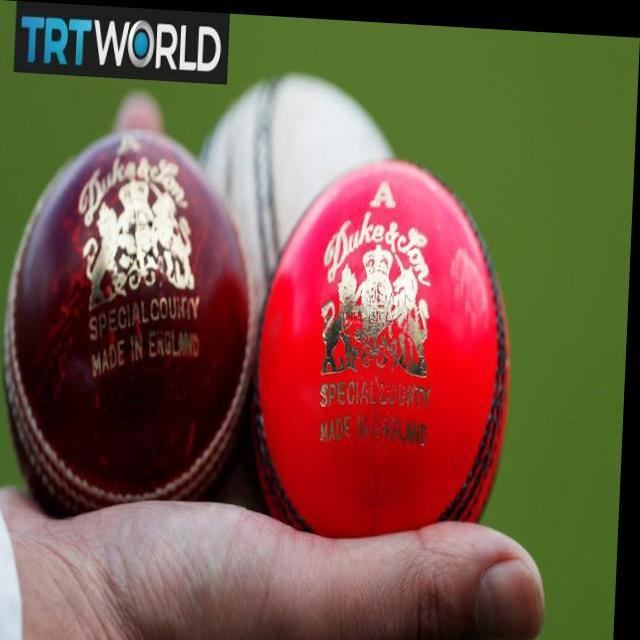cricket ball: (255, 151, 514, 534), (3, 128, 257, 517)
